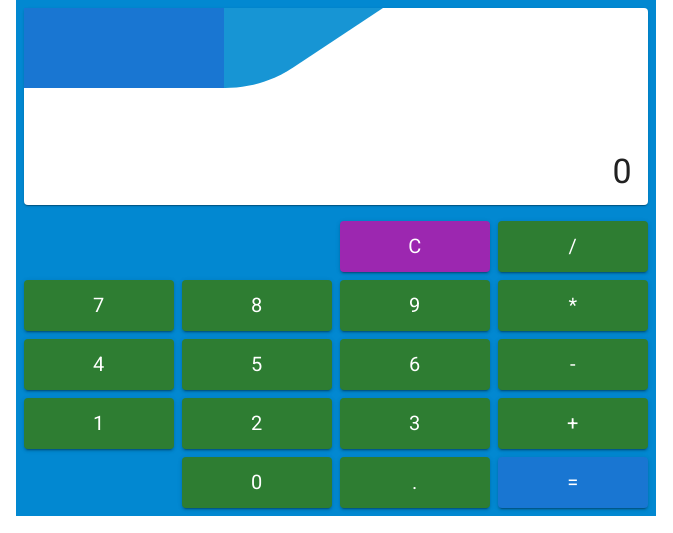
it: <Calculator /> › displays '12 +' when user pressed '1' '2' and '+' buttons
What coordinates should you click on to do the following:
click the button "1"
I would click on:
 (99, 424)
Its box is x1=24 y1=398 x2=174 y2=449.
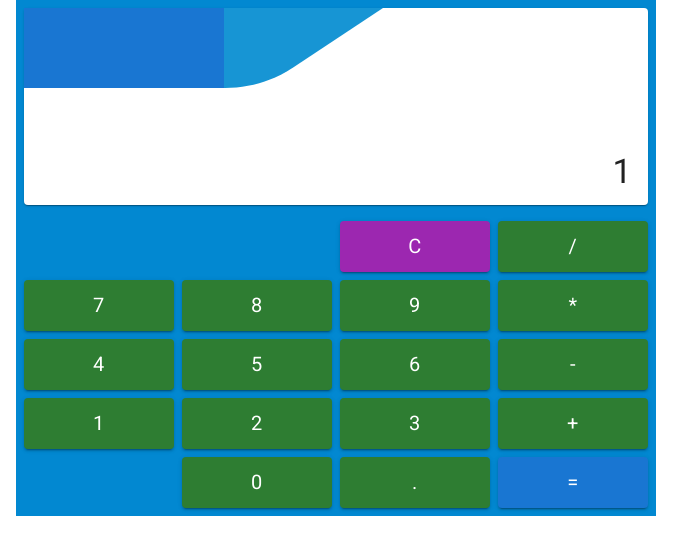
What coordinates should you click on to do the following:
click the button "2"
I would click on:
 (257, 424)
Its box is x1=182 y1=398 x2=332 y2=449.
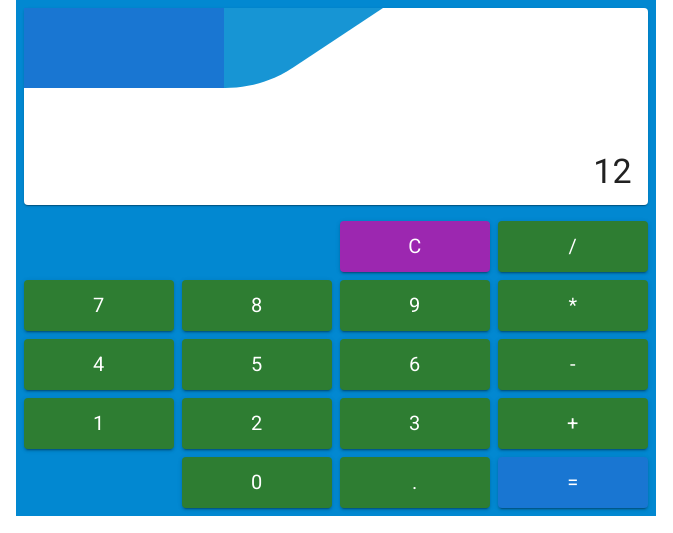
What coordinates should you click on to do the following:
click the button "+"
I would click on:
 (573, 424)
Its box is x1=498 y1=398 x2=648 y2=449.
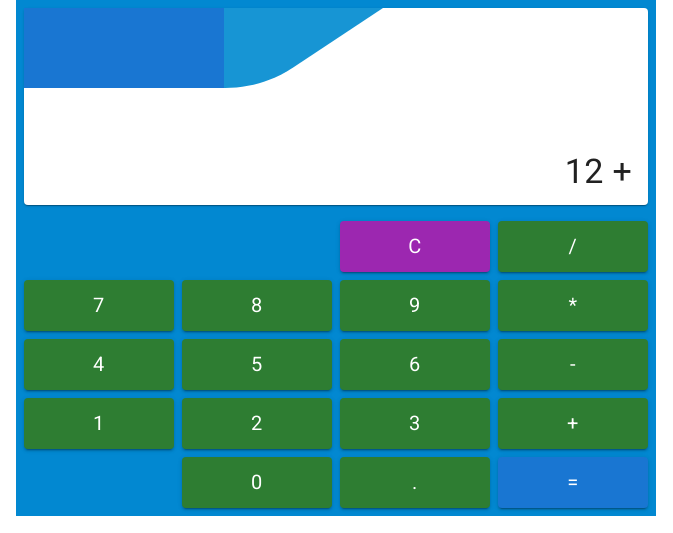
Expected: the text "12 +" is shown, x1=565 y1=151 x2=632 y2=191
